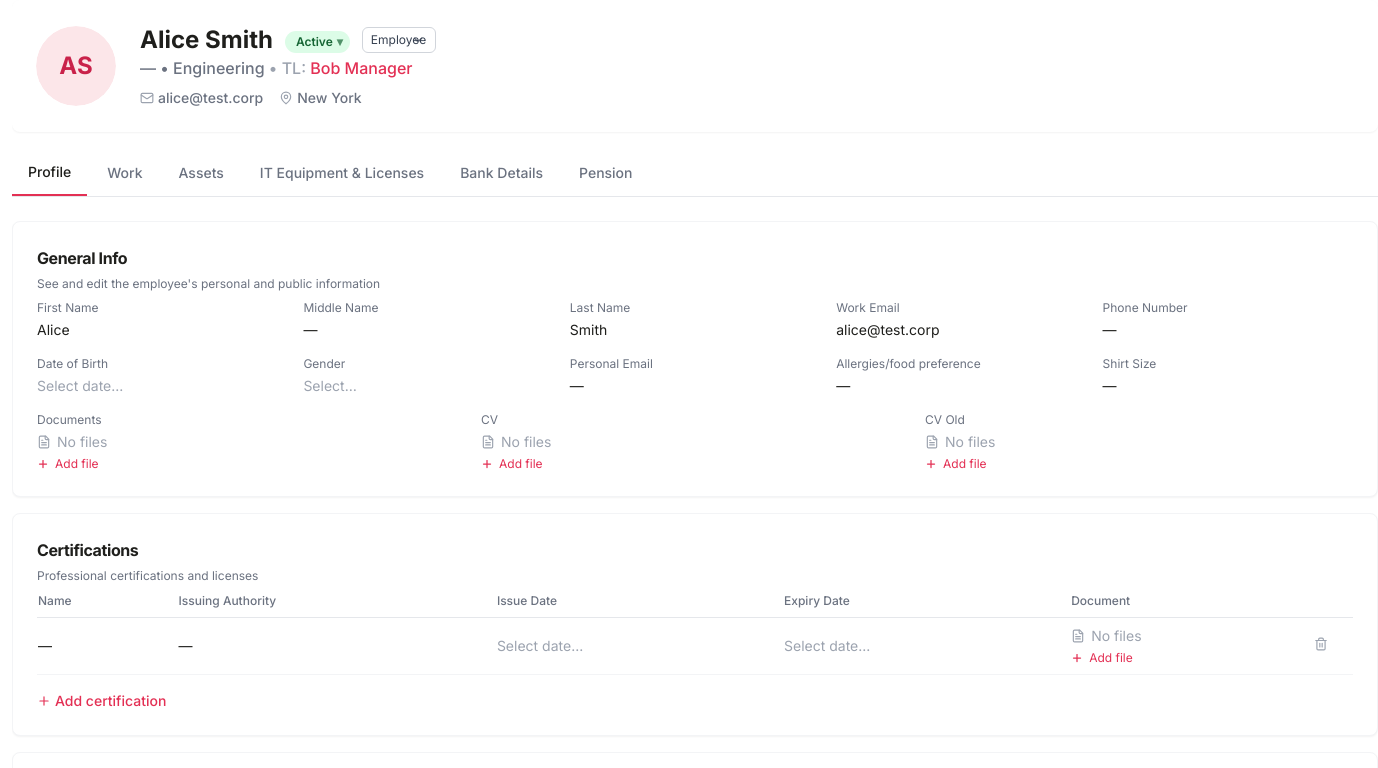
Test: Employee profile page › shows manager name in Work tab (Role section)
Click the tab "Work" at (125, 176), box [91,157,158,195]
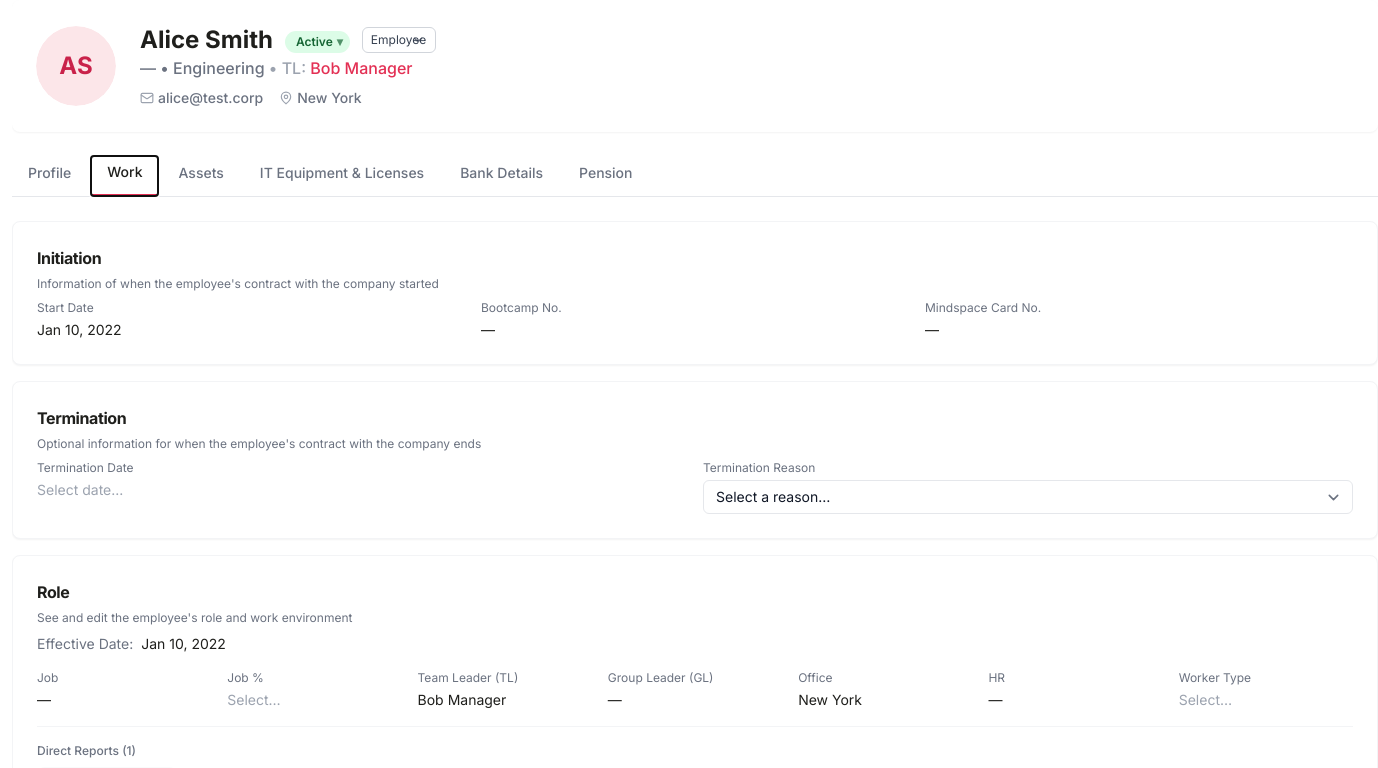
Expected: the text "Team Leader (TL)" is shown, [418,670,518,685]
